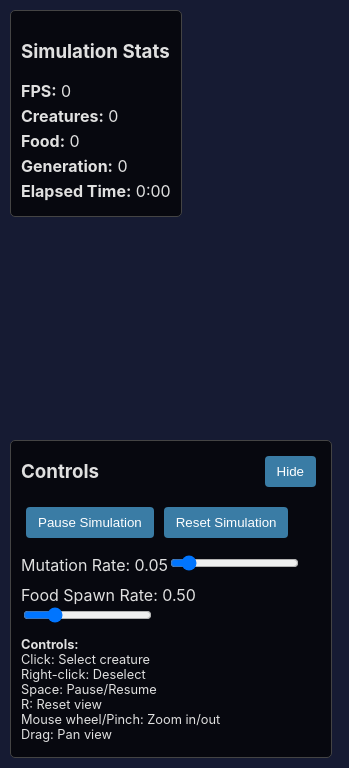
it: App Component › handles pause/resume functionality
The width and height of the screenshot is (349, 768).
Click the button "Pause Simulation".
click(90, 522)  # box left=26, top=507, right=154, bottom=538
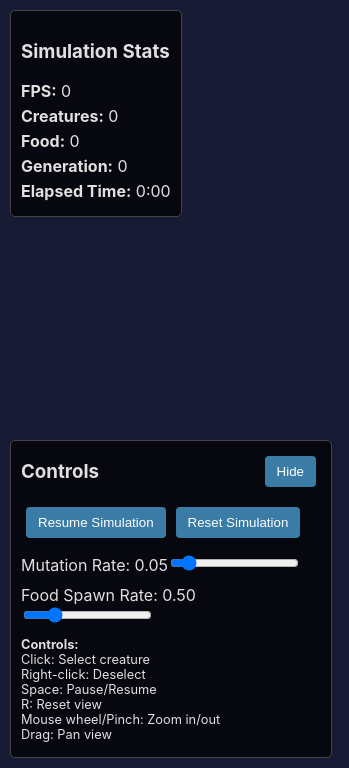
Check: the button "Resume Simulation" is shown, box left=26, top=507, right=166, bottom=538
